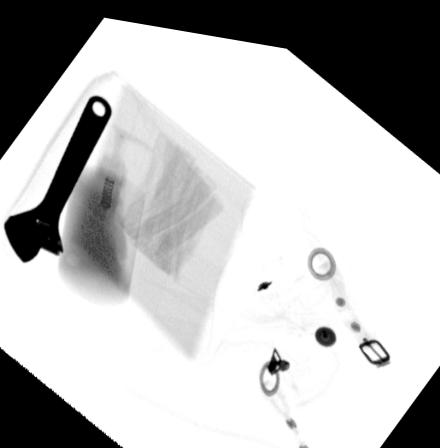Wrench: (1, 88, 113, 265)
